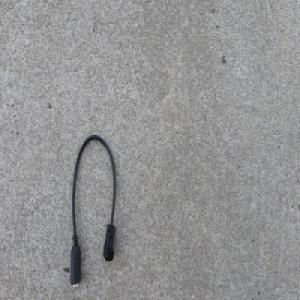Wire: (69, 132, 118, 289)
